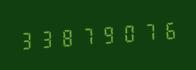eight: (57, 22, 76, 51)
nine: (97, 20, 116, 48)
seven: (77, 21, 96, 50), (137, 17, 156, 45)
six: (157, 15, 176, 44)
three: (17, 25, 36, 54), (37, 24, 56, 52)
zero: (117, 18, 136, 47)
